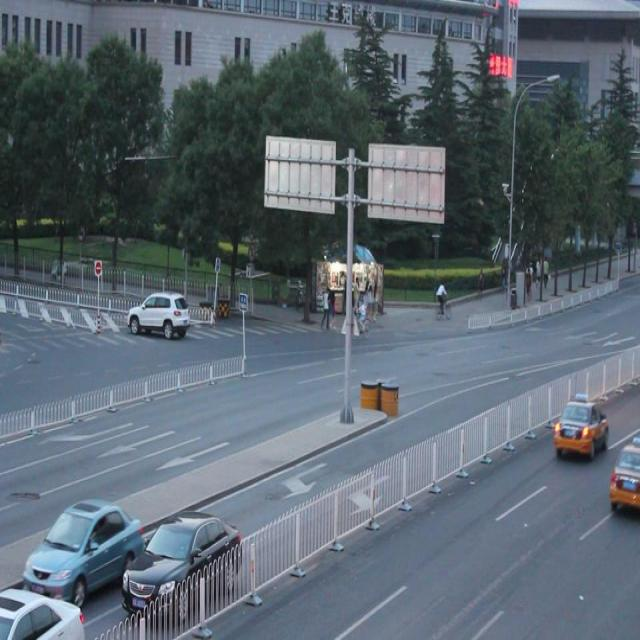car: (122, 504, 241, 616), (24, 494, 142, 602), (1, 582, 85, 640), (553, 395, 608, 455), (127, 288, 189, 339), (606, 440, 640, 516)
